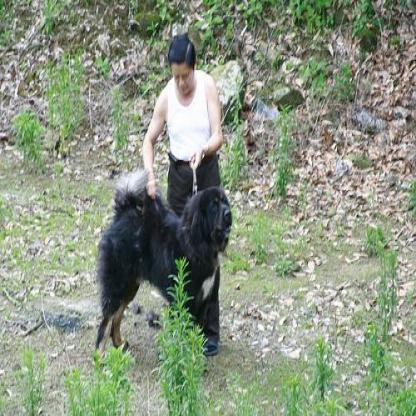Tibetan_mastiff: (88, 166, 233, 367)
